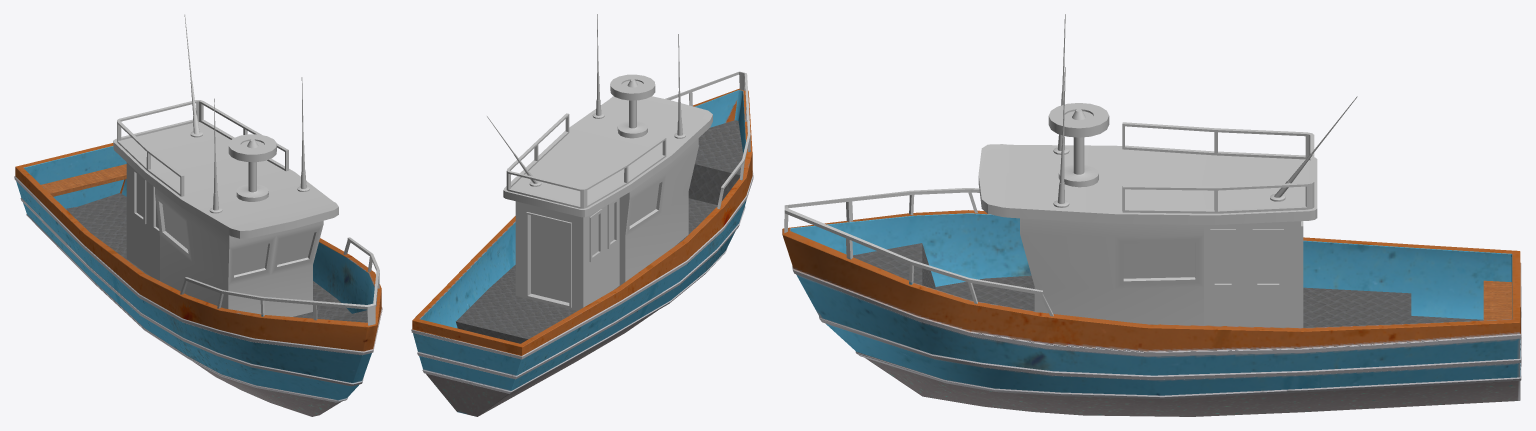
Rendered from Ship2.fbx.
3 renders of one model, left to right at view 1: azimuth 30°, elevation 25°; view 2: azimuth 150°, elevation 25°; view 3: azimuth 270°, elevation 25°, orthographic. The views are drawn at different scales.
Visible parts, largest first — view 1: Ship2; view 2: Ship2; view 3: Ship2.
Boxes of the visible parts, x1=… form: Ship2: x1=14, y1=14, x2=382, y2=416; Ship2: x1=411, y1=14, x2=753, y2=416; Ship2: x1=782, y1=14, x2=1521, y2=416.
Size of the model in its own units: 291 by 461 by 873.
